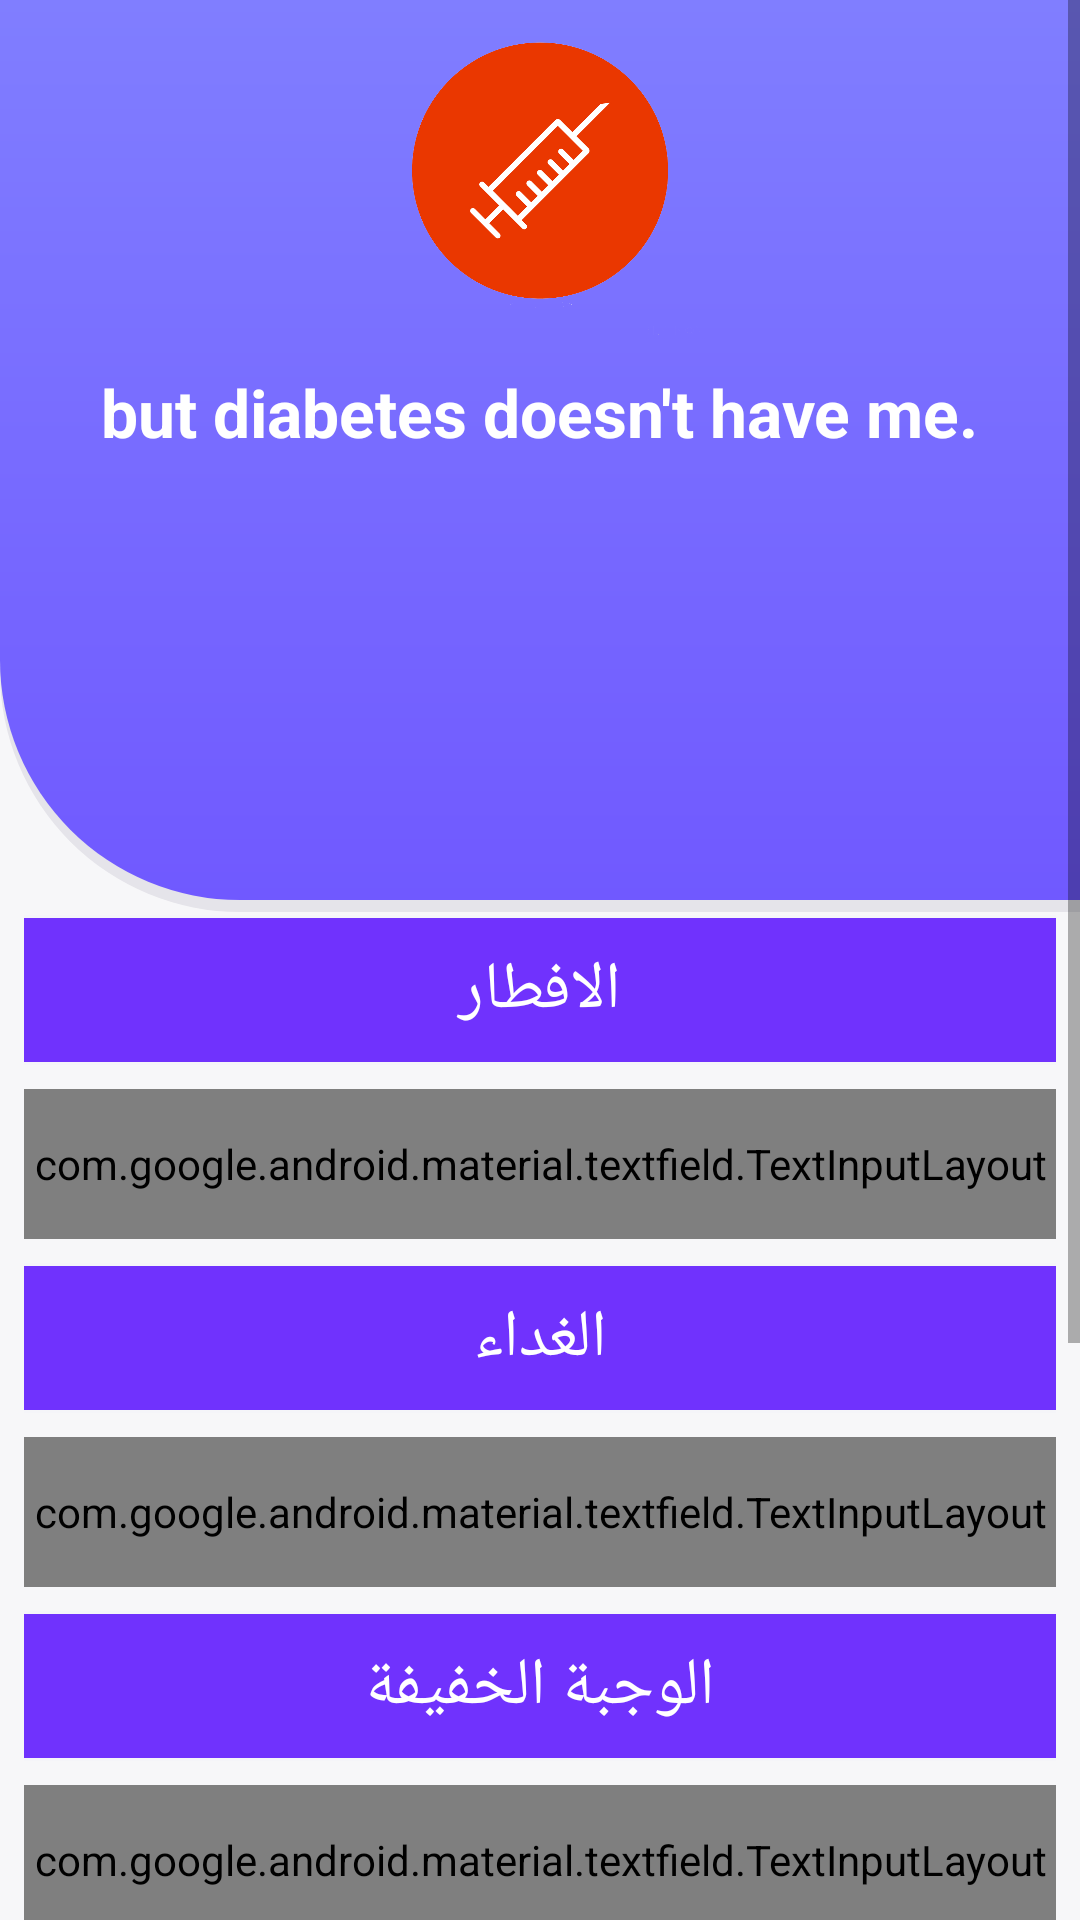

Screen size 1080×1920. Icon name, then its box in pixels as (left=x1, top=y1, right=x2, bottom=y2):
insoline: (left=412, top=42, right=668, bottom=305)
